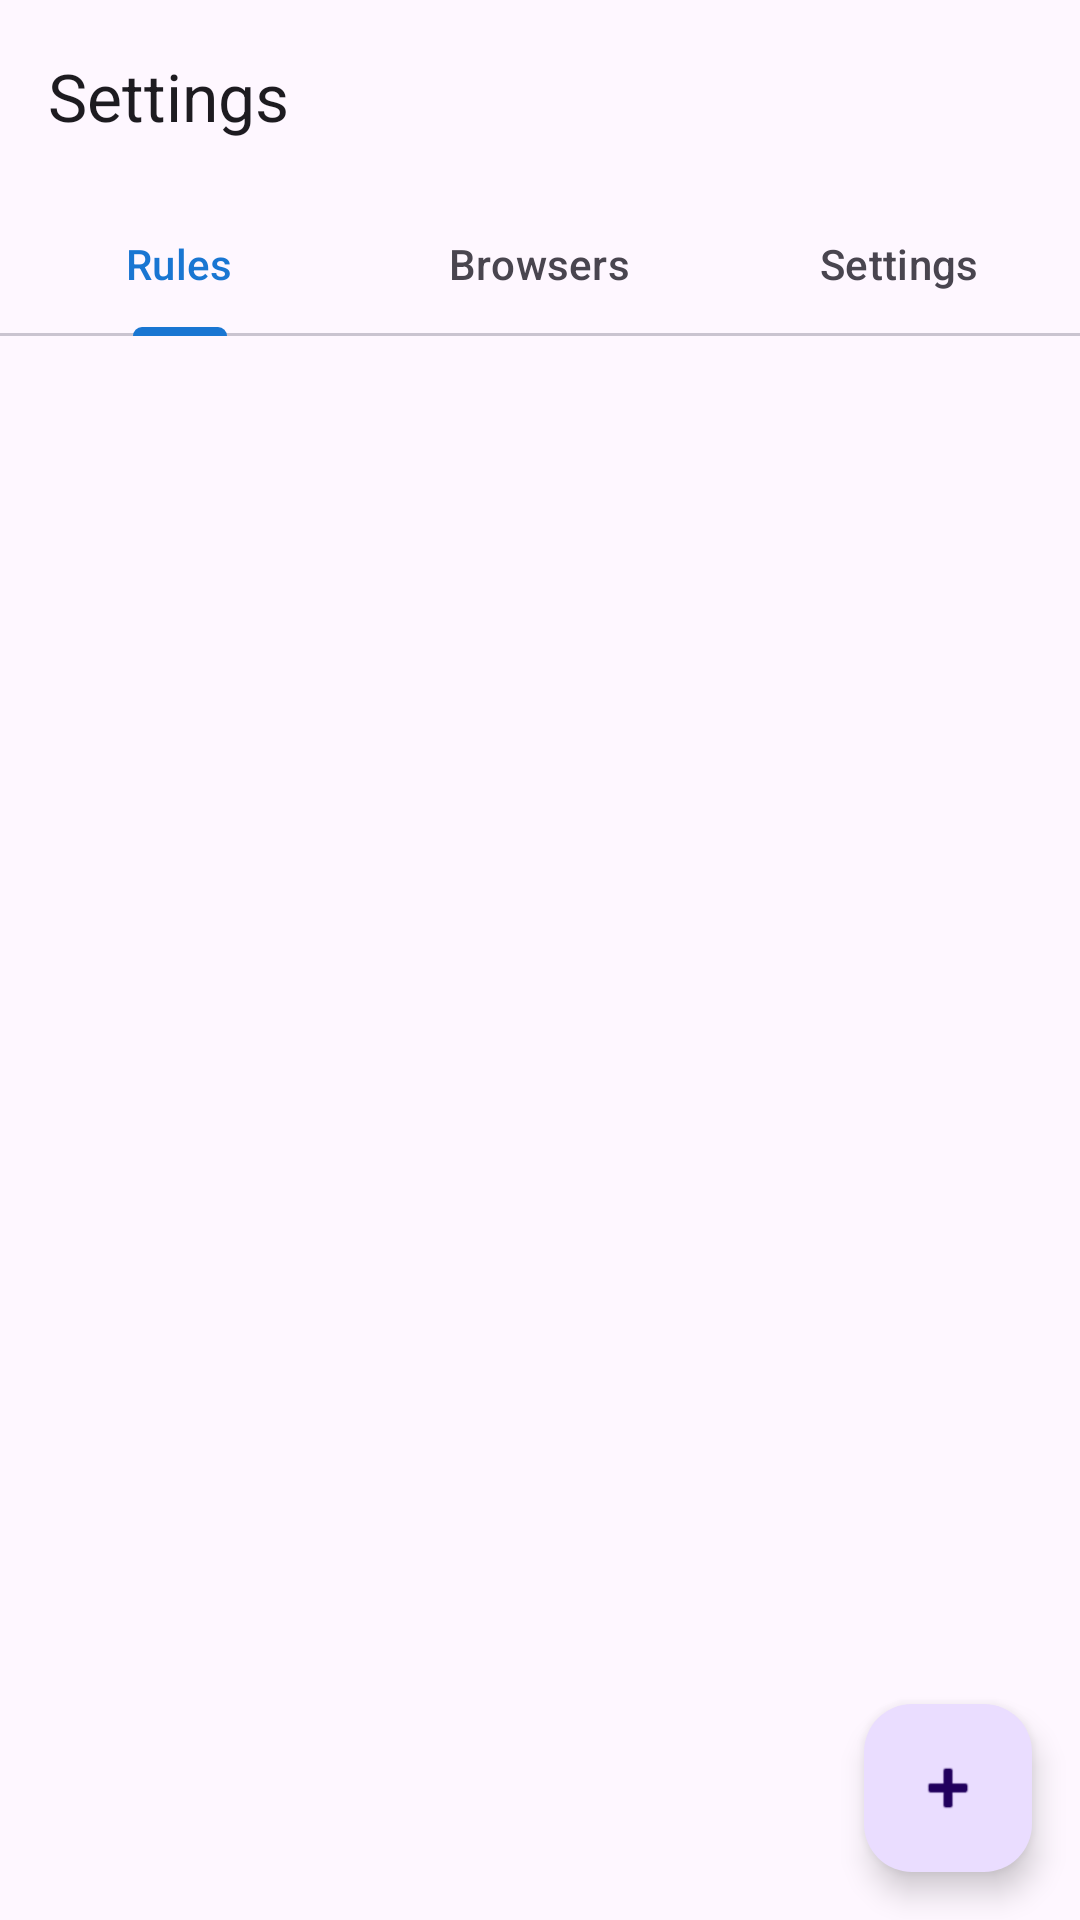

Icons on this 1080w x 1920h Android screen, each with its box as (x1, y1, x2, y2):
Add Rule: (864, 1704, 1032, 1872)
